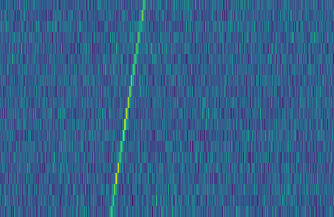signal: (105, 0, 149, 217)
